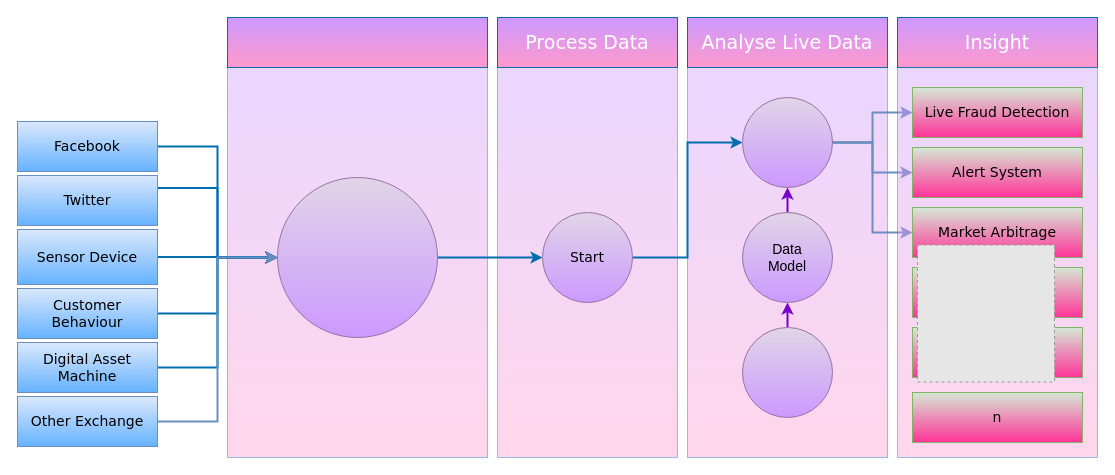
The diagram is 1115 pixels wide and 475 high, and some of its shapes have lost their labels. Grey dashed boxes stand in for pictures. The shapes that lost their labels are listed below. From the top down, each one's centre as x and y in pixels, then its label:
pixel 357 42: Raw Data Structure
pixel 787 142: Analyse Data
pixel 357 257: Stream Gateway
pixel 787 372: Data Warehourse
